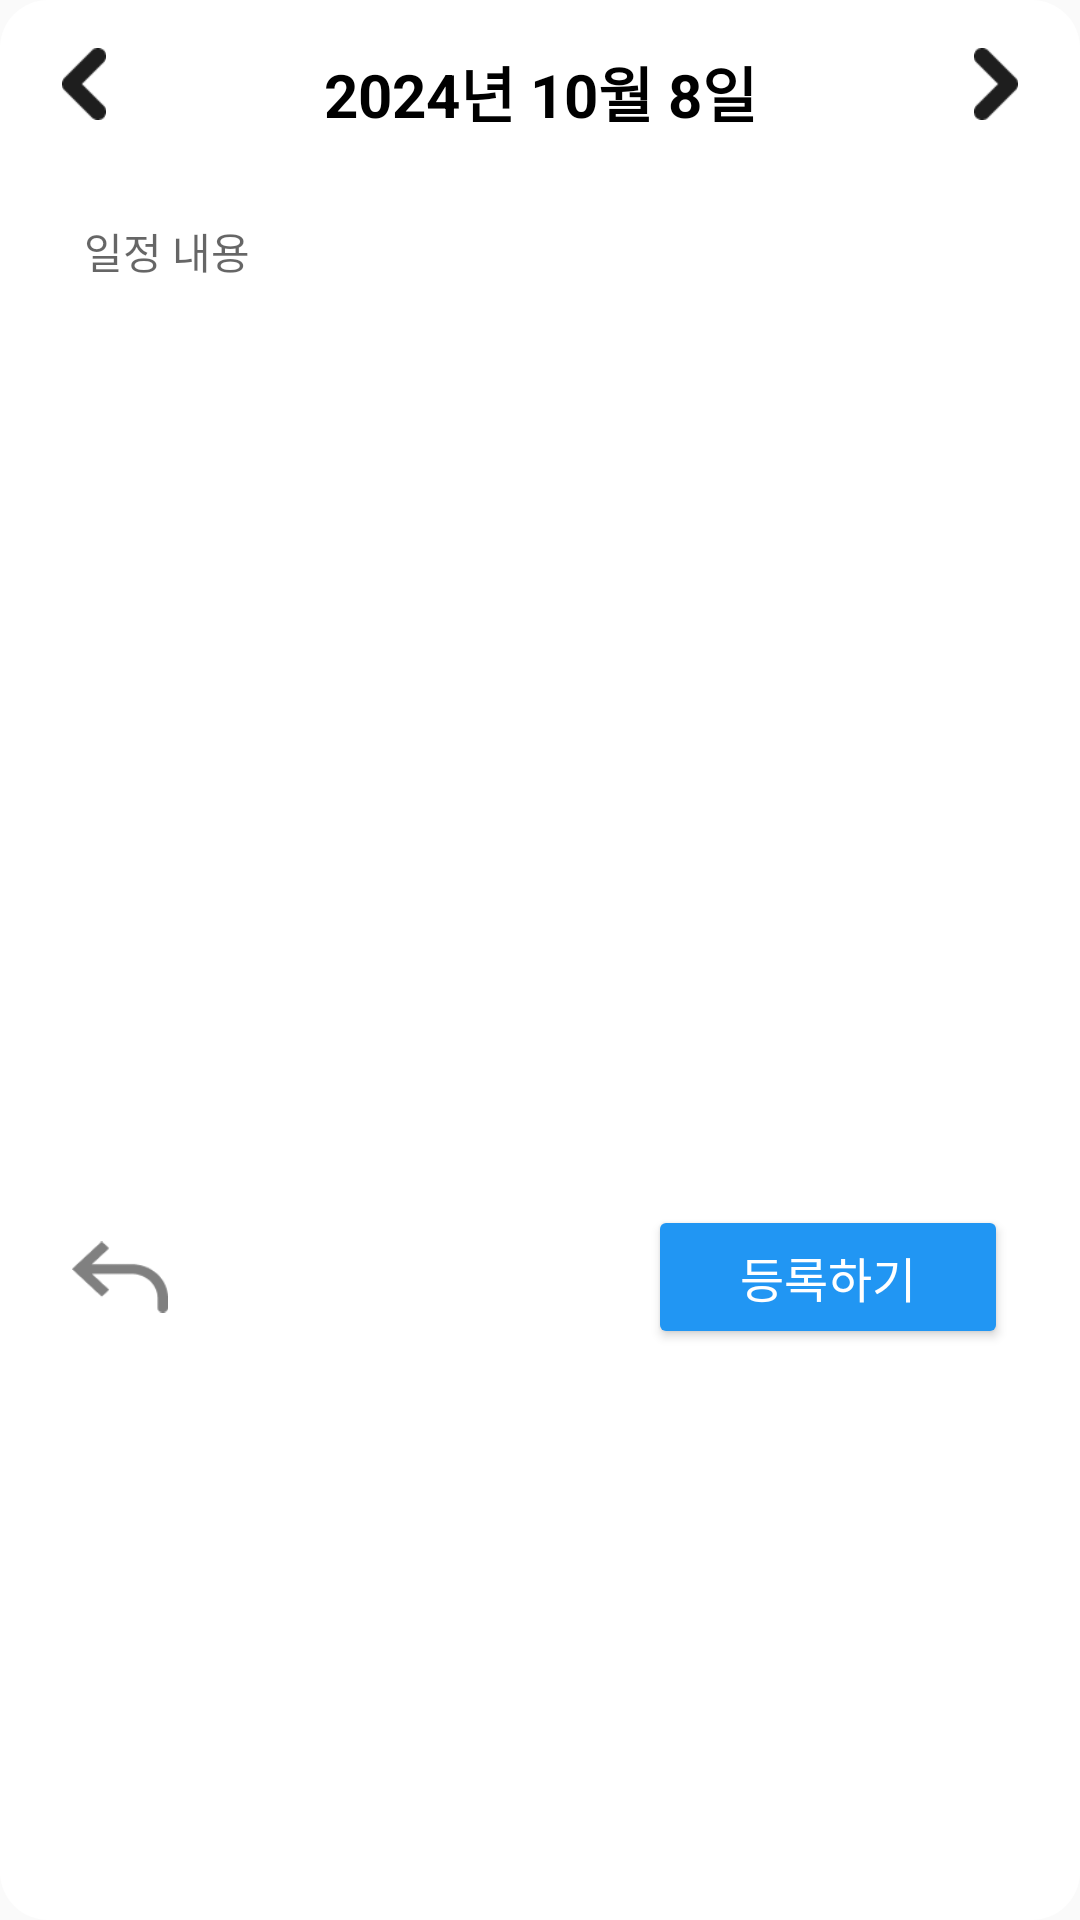

Locate icon controls on the screen. Image size 1080w x 1920h, boxes as (x1, y1, x2, y2).
Cancel: (72, 1241, 168, 1313)
Next Date: (974, 48, 1018, 120)
Previous Date: (62, 48, 106, 120)
